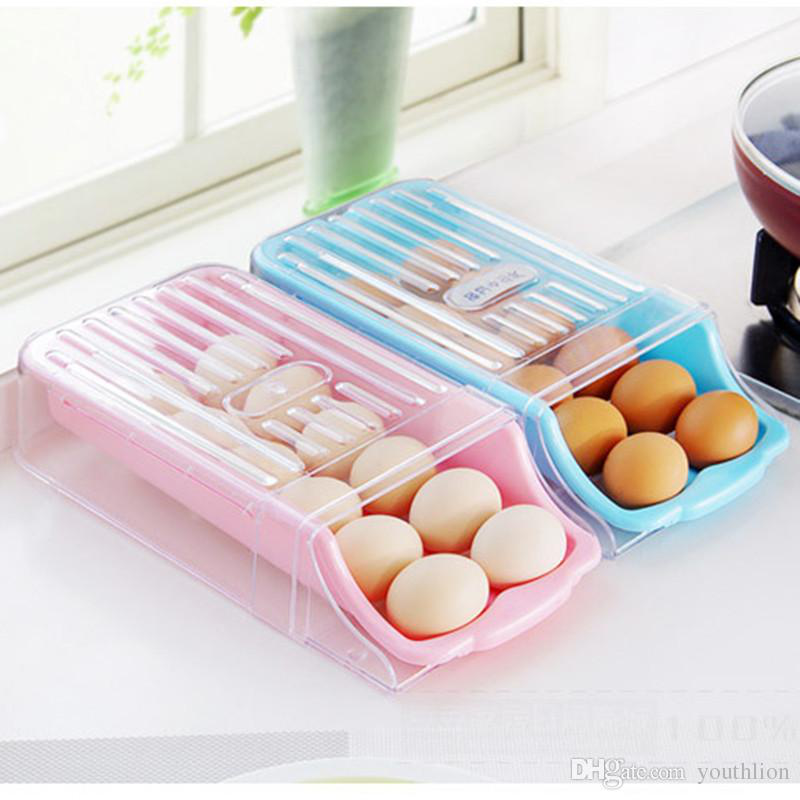egg: (103, 338, 563, 676), (328, 229, 762, 504)
